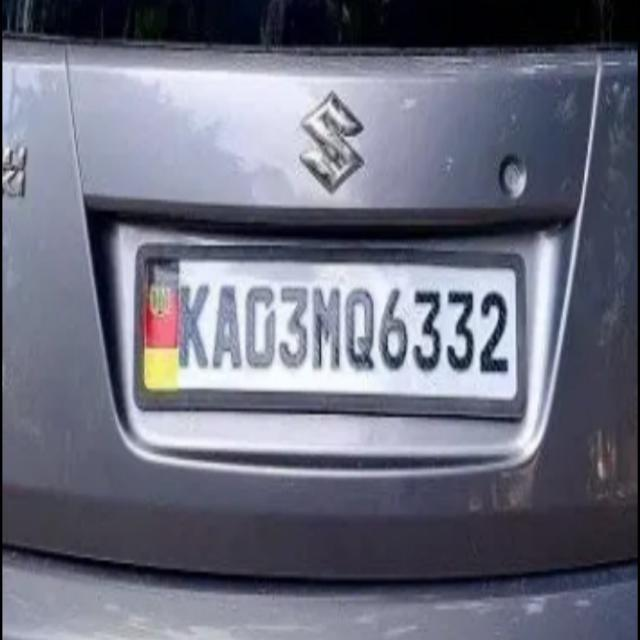0: (243, 270, 277, 374)
3: (442, 283, 478, 382), (278, 274, 312, 372), (410, 281, 444, 373)
6: (377, 281, 412, 377)
A: (212, 274, 244, 376)
K: (176, 276, 209, 376)
M: (309, 276, 346, 378)
Q: (342, 276, 375, 380)
